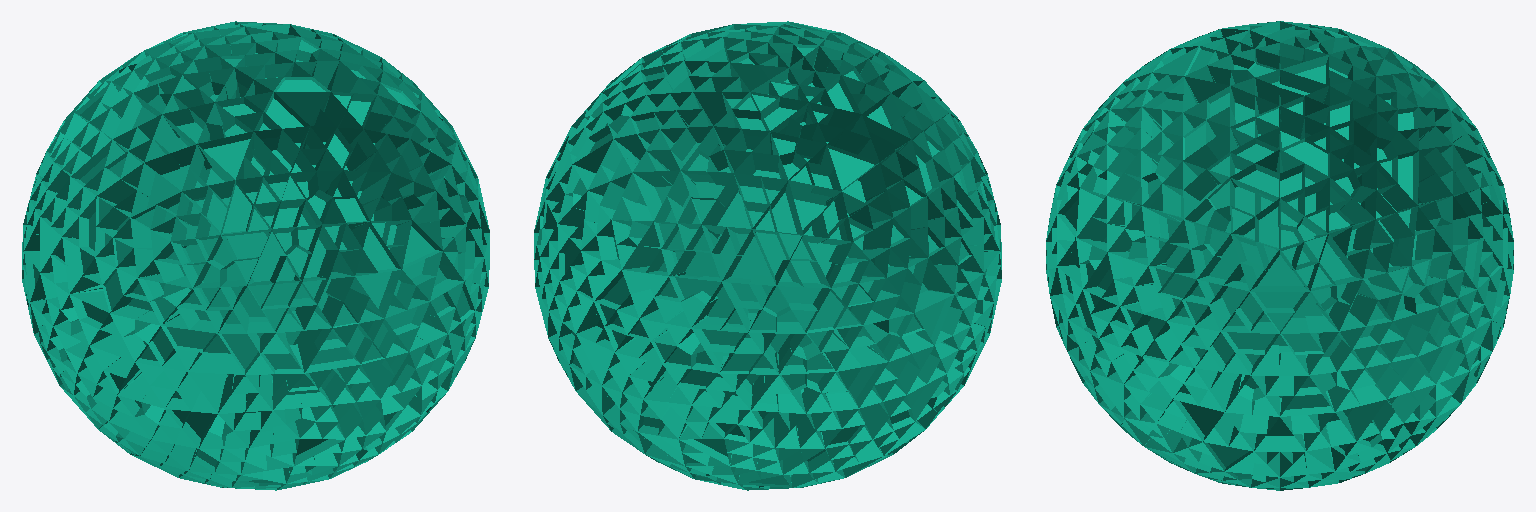
The model's file is bigsphere.obj.
3 renders of one model, left to right at view 1: azimuth 30°, elevation 25°; view 2: azimuth 150°, elevation 25°; view 3: azimuth 270°, elevation 25°, orthographic.
Visible parts, largest first — view 1: GeoSphere001; view 2: GeoSphere001; view 3: GeoSphere001.
Part boxes in pixels (left/top/right/bottom): GeoSphere001: left=22, top=21, right=489, bottom=490; GeoSphere001: left=534, top=21, right=1001, bottom=490; GeoSphere001: left=1046, top=21, right=1513, bottom=490.
Bounding box in the file's own units: 458 × 461 × 458.